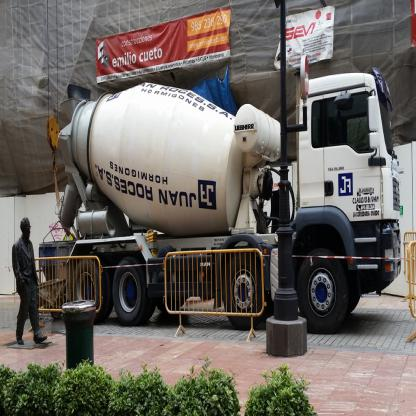Truck: (55, 46, 402, 334)
